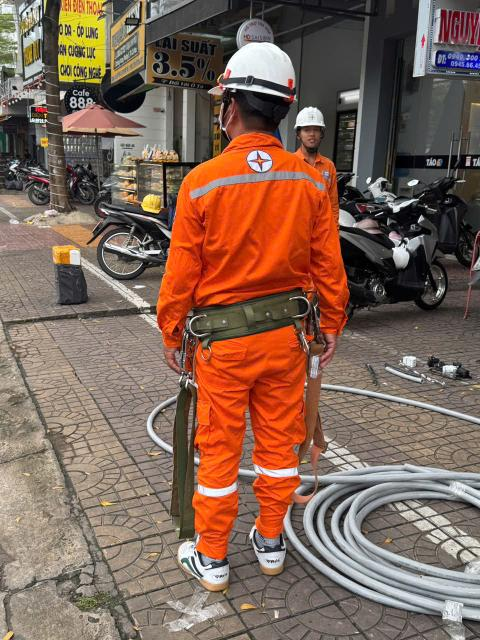harness: (132, 287, 323, 370)
helmet: (192, 38, 300, 107), (287, 99, 343, 148)
shoes: (244, 511, 322, 582), (152, 532, 235, 598)
